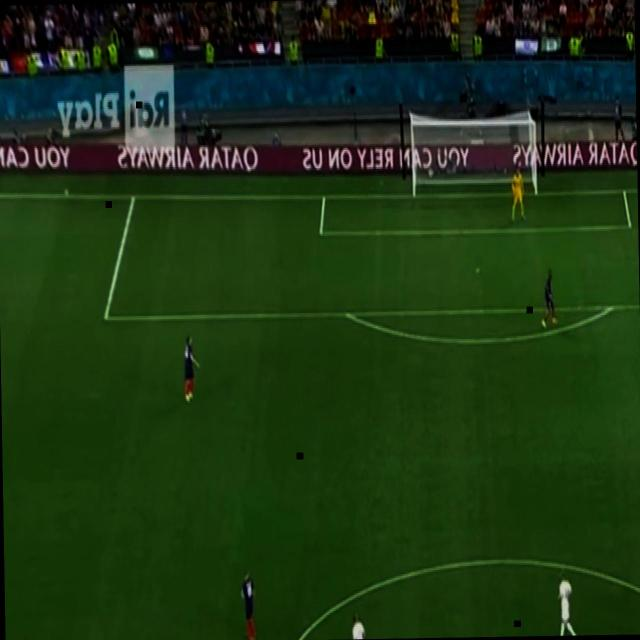player-white: (555, 571, 579, 636), (182, 334, 202, 404), (240, 569, 258, 640), (539, 270, 559, 330), (510, 166, 526, 224), (350, 612, 371, 640)
